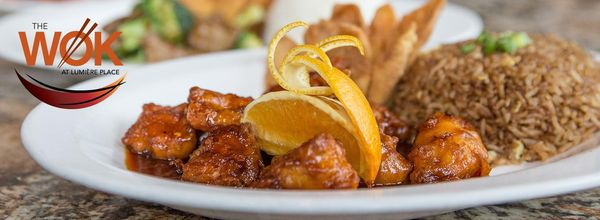sushi: (17, 0, 600, 214), (5, 8, 130, 107), (15, 64, 127, 107)
